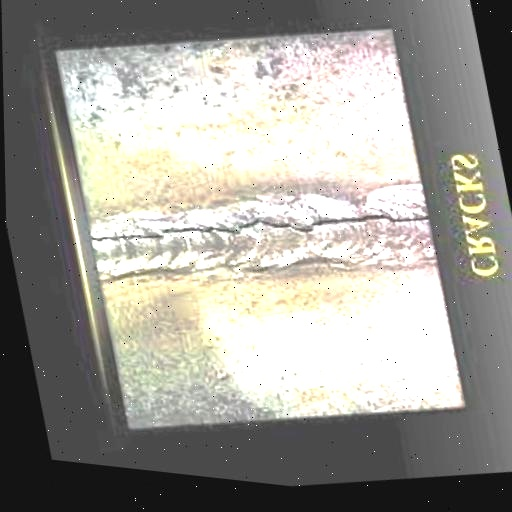crack: (89, 157, 435, 297)
